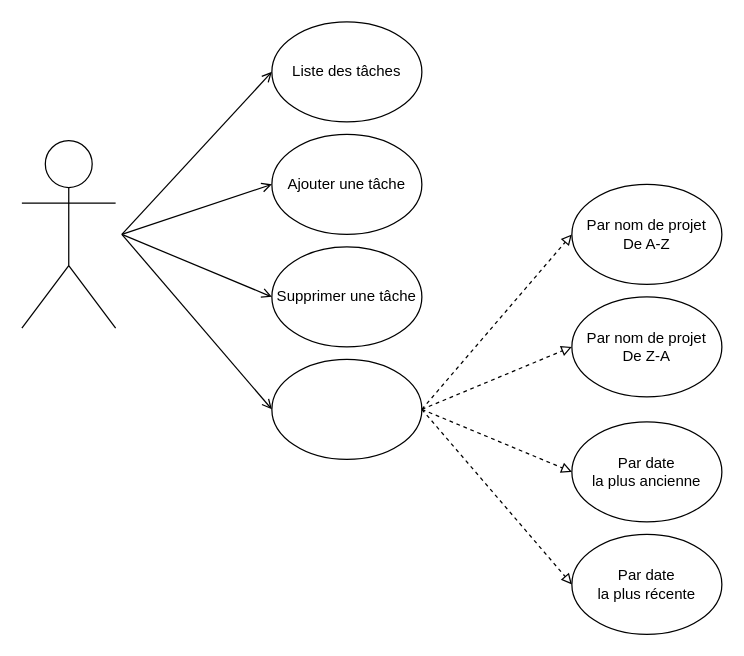
Image size: 744x656. Some labels were removed from this diagram. The shapes that lost their labels are listed below. From the top down, each one's centre as x and y in pixels, then its label:
At point 68,233: "Utilisateur".
At point 346,408: "Trier les tâches".
